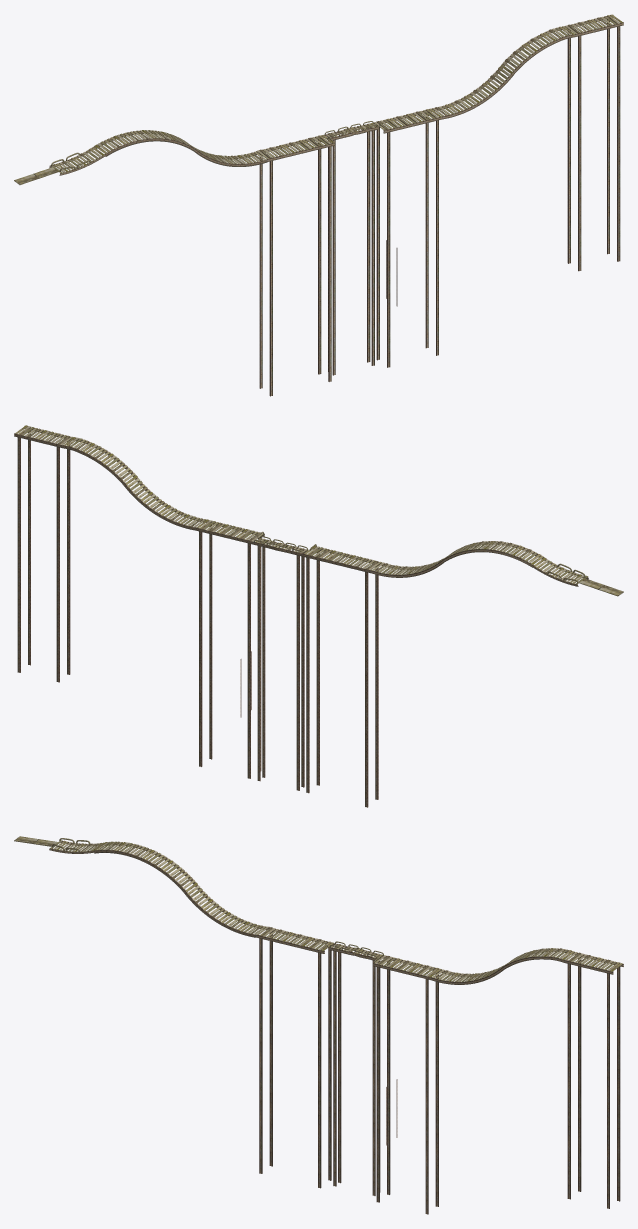
3 renders of one model, top to bottom at view 1: azimuth 30°, elevation 25°; view 2: azimuth 150°, elevation 25°; view 3: azimuth 330°, elevation 25°, orthographic.
Parts seen in each view (by area): view 1: Ramp_006, Ramp_001, Ramp_005, Ramp_004, Ramp_005__1_, Ramp_004__2_, Ramp_002; view 2: Ramp_006, Ramp_001, Ramp_005, Ramp_004, Ramp_005__1_, Ramp_004__2_, Ramp_002; view 3: Ramp_006, Ramp_001, Ramp_005__1_, Ramp_004__1_, Ramp_005, Ramp_004__2_.
Boxes of the visible parts, bbox=[...] form: Ramp_006: bbox=[256, 108, 442, 396]; Ramp_001: bbox=[564, 14, 623, 271]; Ramp_005: bbox=[432, 64, 514, 119]; Ramp_004: bbox=[502, 32, 556, 72]; Ramp_005__1_: bbox=[192, 146, 267, 166]; Ramp_004__2_: bbox=[94, 130, 152, 156]; Ramp_002: bbox=[49, 146, 105, 175]; Ramp_006: bbox=[195, 519, 381, 807]; Ramp_001: bbox=[14, 425, 73, 682]; Ramp_005: bbox=[123, 475, 206, 530]; Ramp_004: bbox=[80, 443, 135, 484]; Ramp_005__1_: bbox=[371, 557, 445, 577]; Ramp_004__2_: bbox=[485, 541, 544, 567]; Ramp_002: bbox=[532, 557, 588, 586]; Ramp_006: bbox=[256, 926, 441, 1214]; Ramp_001: bbox=[564, 952, 623, 1208]; Ramp_005__1_: bbox=[183, 882, 266, 937]; Ramp_004__1_: bbox=[141, 850, 195, 891]; Ramp_005: bbox=[431, 964, 505, 984]; Ramp_004__2_: bbox=[94, 841, 151, 860].
Size of the model in its own units: 6158 by 2822 by 217.
